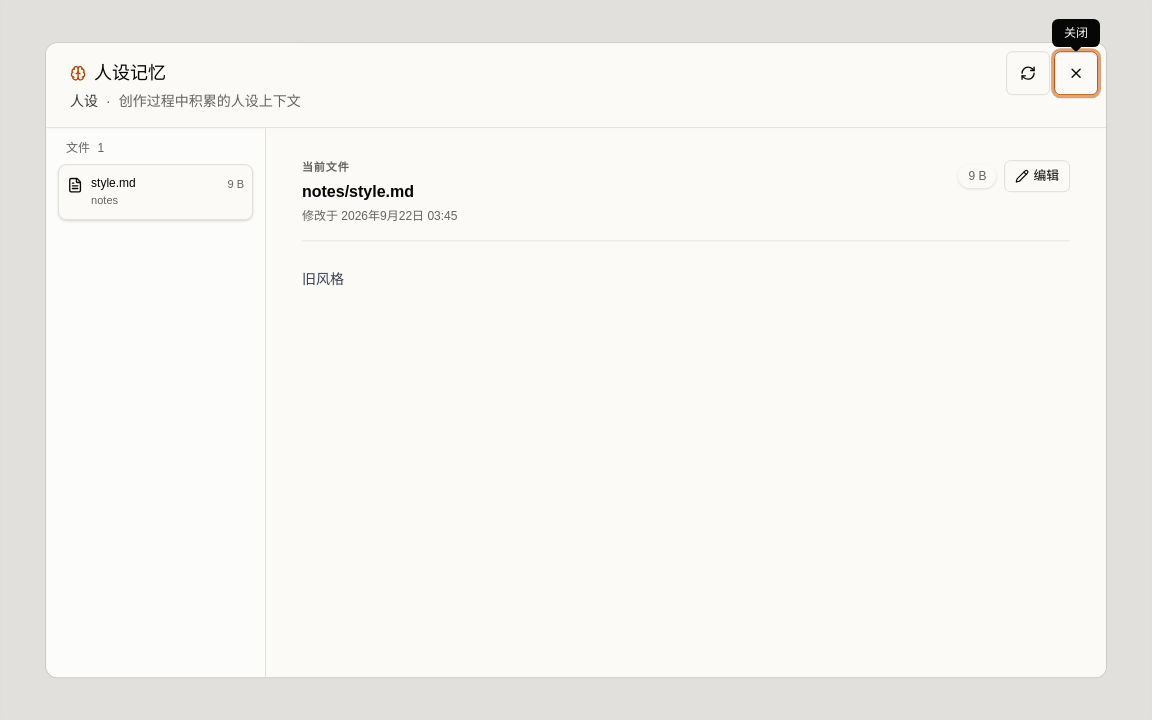
Test: ProjectMemoryDialog › edits an unprotected markdown file through the CAS API and refreshes
The width and height of the screenshot is (1152, 720).
Expected: the text "旧风格" is shown, [302,271,344,287]
Click the button "编辑" at (1037, 176), box [1004,160,1070,192]
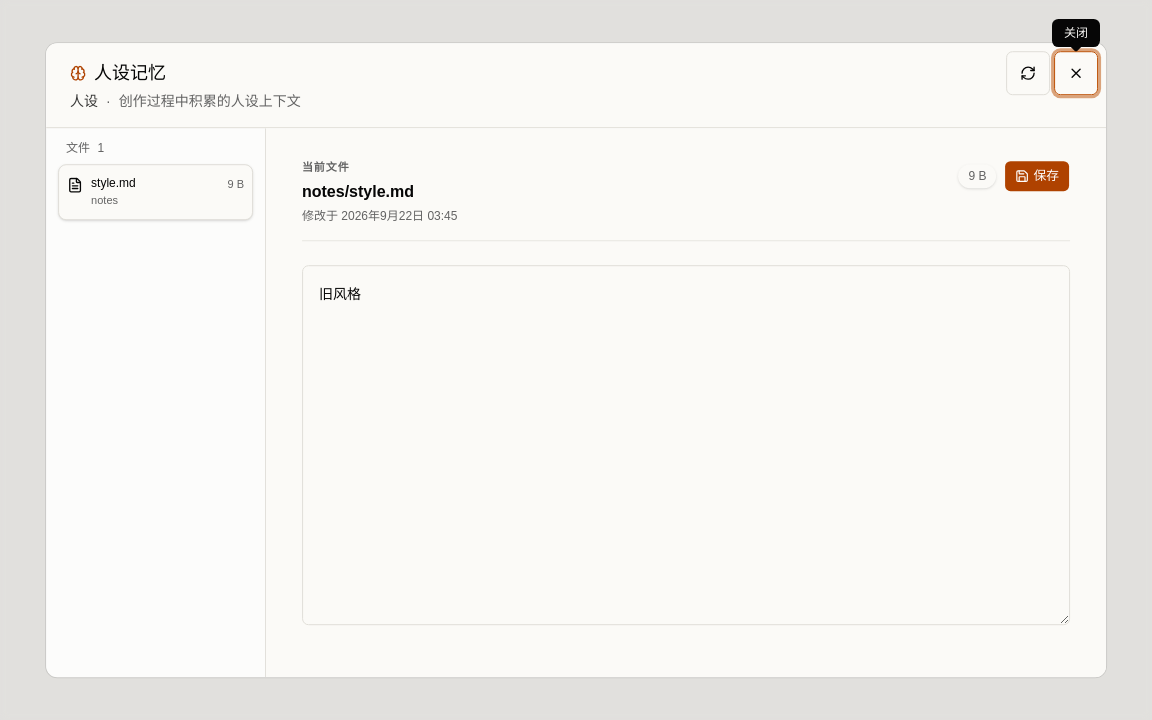
Expected: the text box named "编辑记忆文件" is shown
Replace the text in the text box named "编辑记忆文件" with "新风格" at (686, 445), box [302,265,1070,625]
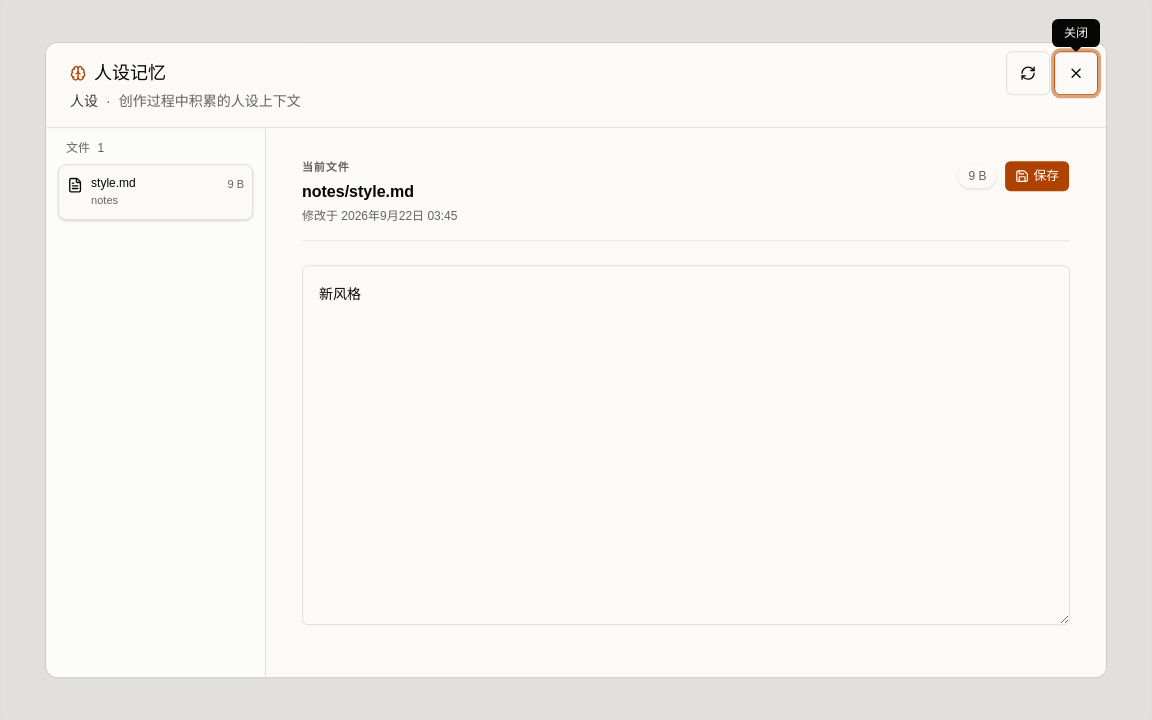
Click the button "保存" at (1037, 176), box [1004,160,1070,192]
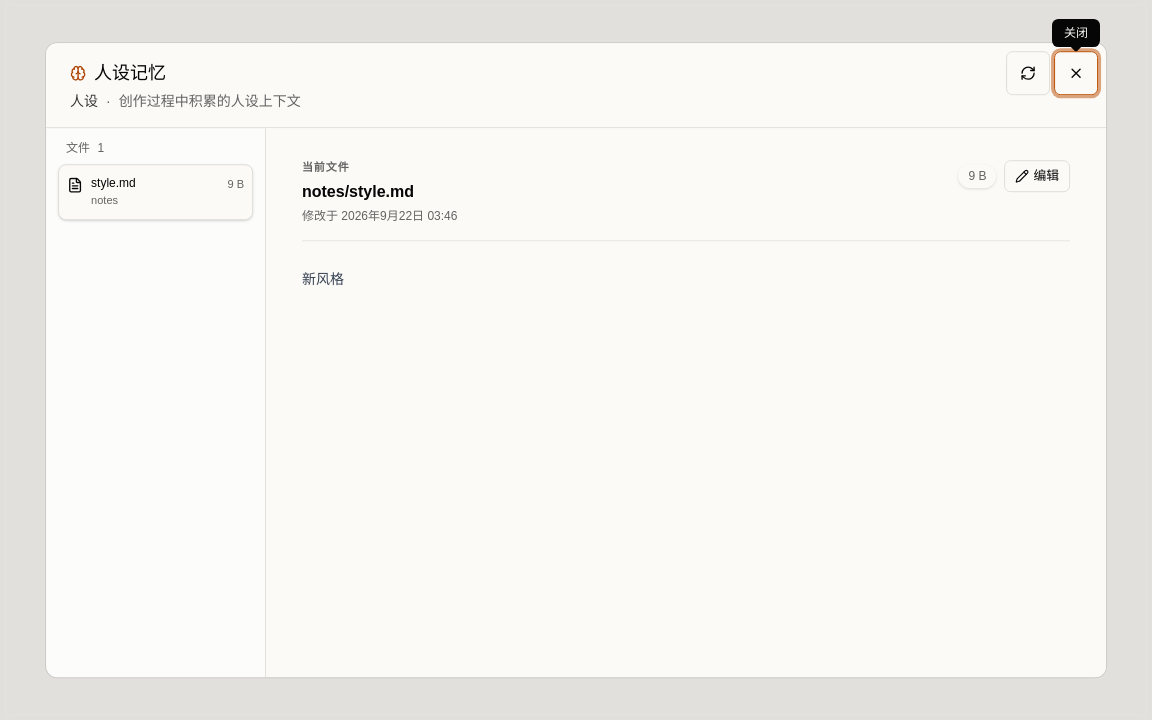
Expected: the text box labelled "编辑记忆文件" is gone
Expected: the text "新风格" is shown, [302,271,344,287]
